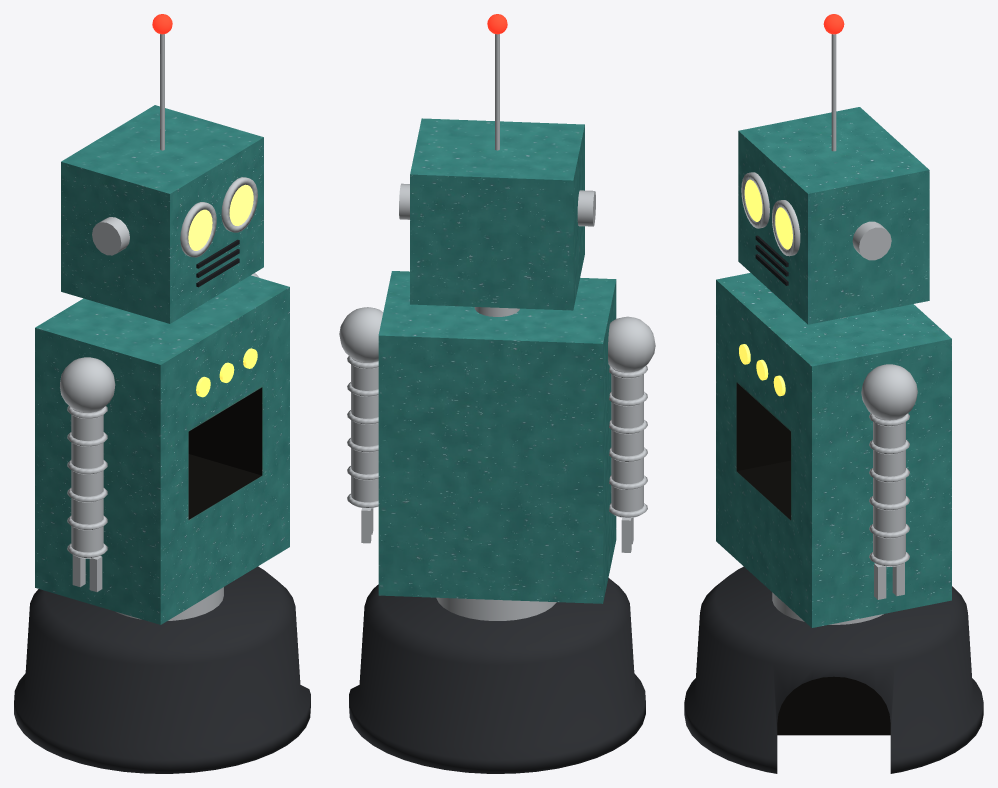
The model's file is retro-robot.glb.
The picture shows the model from 3 angles, left to right: view 1: azimuth 30°, elevation 25°; view 2: azimuth 150°, elevation 25°; view 3: azimuth 270°, elevation 25°; orthographic projection.
Visible parts, largest first — view 1: shell, base.001, chrome, eyes.002, grille, dials; view 2: shell, base.001, chrome; view 3: shell, base.001, chrome, eyes.002, grille, dials.
Boxes of the visible parts, left/top/right/bottom form: shell: left=35, top=105, right=289, bottom=624; base.001: left=14, top=566, right=310, bottom=773; chrome: left=60, top=34, right=259, bottom=620; eyes.002: left=188, top=184, right=253, bottom=250; grille: left=196, top=239, right=239, bottom=287; dials: left=196, top=348, right=257, bottom=397; shell: left=378, top=118, right=616, bottom=603; base.001: left=349, top=578, right=645, bottom=773; chrome: left=339, top=34, right=655, bottom=620; shell: left=716, top=107, right=951, bottom=627; base.001: left=684, top=566, right=983, bottom=773; chrome: left=741, top=34, right=917, bottom=624; eyes.002: left=744, top=179, right=792, bottom=249; grille: left=755, top=235, right=788, bottom=285; dials: left=739, top=344, right=785, bottom=396.
Bounding box in the file's own units: 5.76 × 15 × 5.8.
9 materials, 1 textured.
